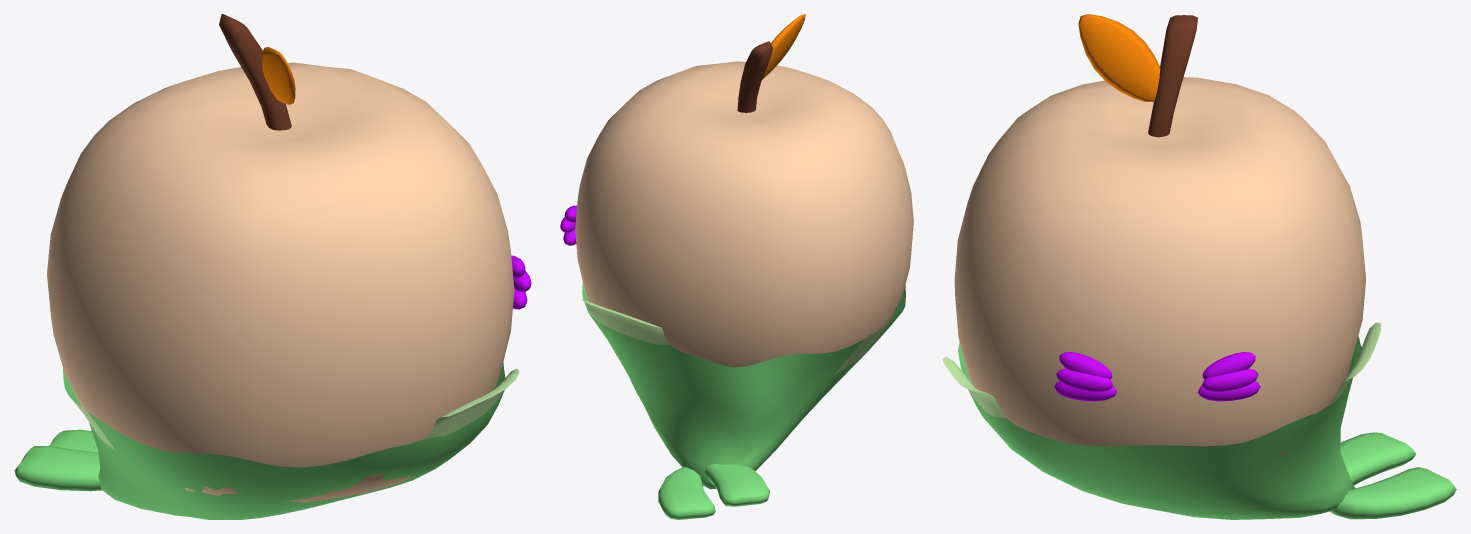
The model's file is apple_mermaid.fbx.
3 renders of one model, left to right at view 1: azimuth 30°, elevation 25°; view 2: azimuth 150°, elevation 25°; view 3: azimuth 270°, elevation 25°, orthographic. The views are drawn at different scales.
Parts seen in each view (by area): view 1: apple_standart, apple_standart.002, apple_standart.001, Cube.001, Cube, Cube.002; view 2: apple_standart, apple_standart.002, apple_standart.001, Cube, Cube.001, Cube.002; view 3: apple_standart, apple_standart.002, apple_standart.001, Cube.002, Cube, Cube.001.
Part boxes in pixels (box(x1,y1,x2,y2)): apple_standart: box(47, 62, 514, 502); apple_standart.002: box(63, 363, 519, 519); apple_standart.001: box(219, 14, 295, 130); Cube.001: box(14, 446, 101, 491); Cube: box(49, 429, 98, 452); Cube.002: box(511, 255, 531, 309); apple_standart: box(575, 61, 913, 367); apple_standart.002: box(582, 282, 905, 489); apple_standart.001: box(737, 14, 805, 112); Cube: box(658, 467, 715, 519); Cube.001: box(704, 464, 769, 506); Cube.002: box(560, 205, 576, 245); apple_standart: box(954, 77, 1366, 455); apple_standart.002: box(942, 322, 1380, 519); apple_standart.001: box(1078, 14, 1197, 137); Cube.002: box(1054, 352, 1260, 401); Cube: box(1330, 467, 1456, 519); Cube.001: box(1340, 432, 1415, 485).
Bounding box in the file's own units: 57.75 × 73.05 × 68.68.
